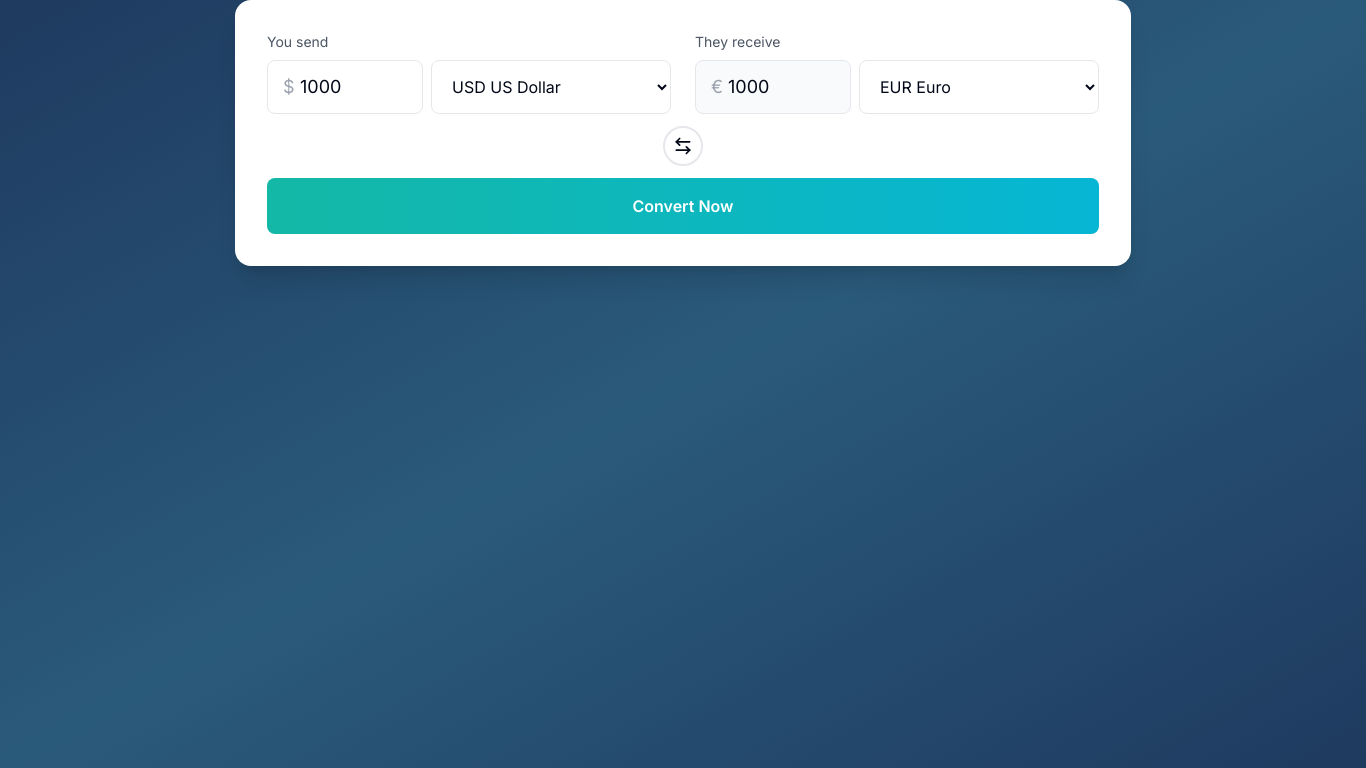
Test: ConverterSection › should validate amount is a valid number
Type "-50" into the number field with placeholder "1000" at (345, 87), box [267,60,423,114]
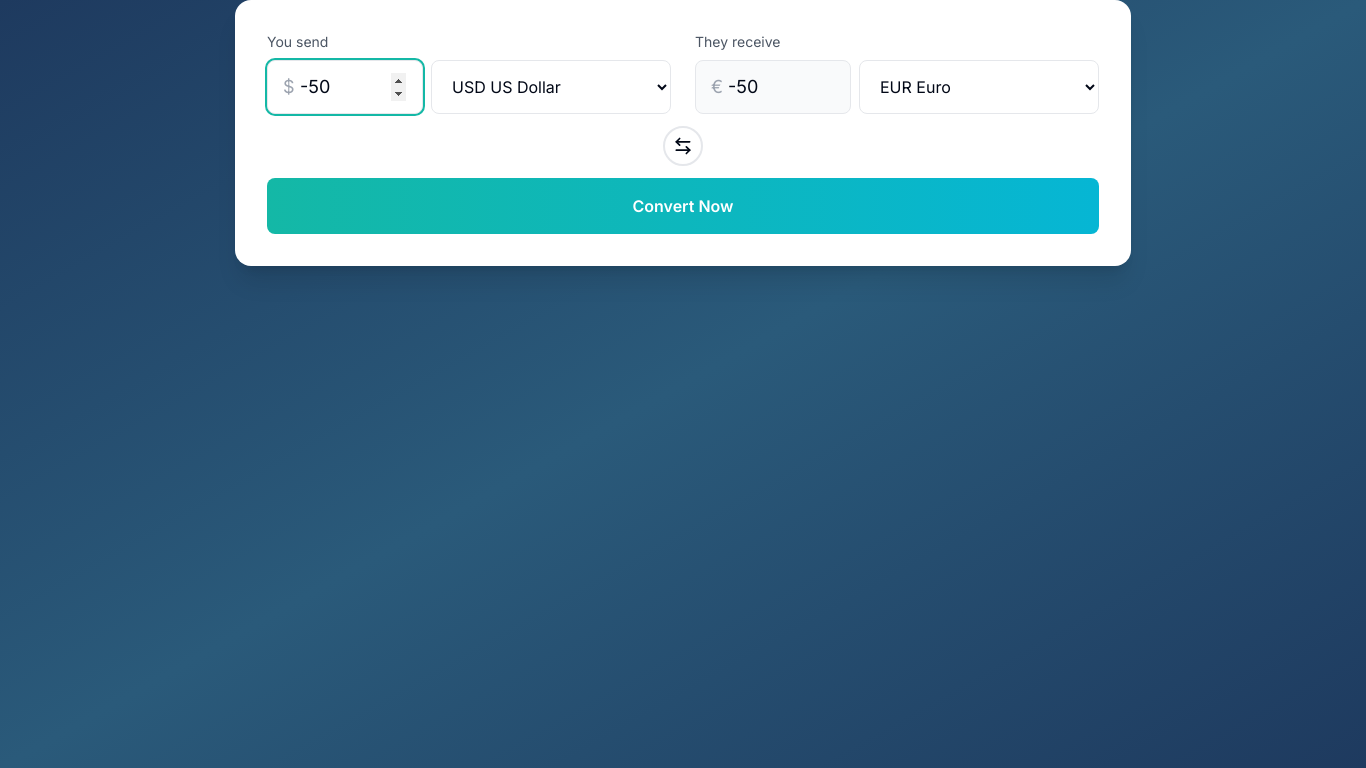
Click the button "Convert Now" at (683, 206), box [267,178,1099,234]
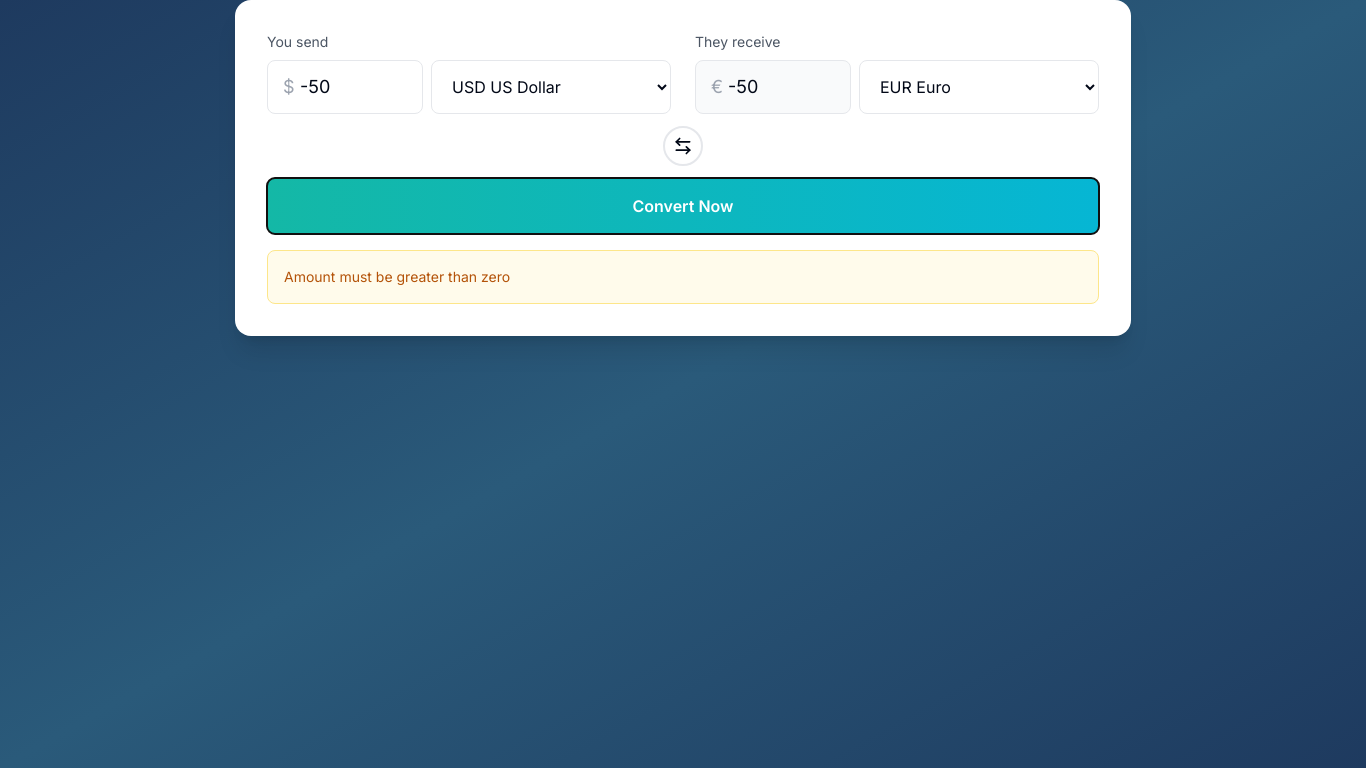
Check: the text "Amount must be greater than zero" is shown, box [267,250,1099,304]
